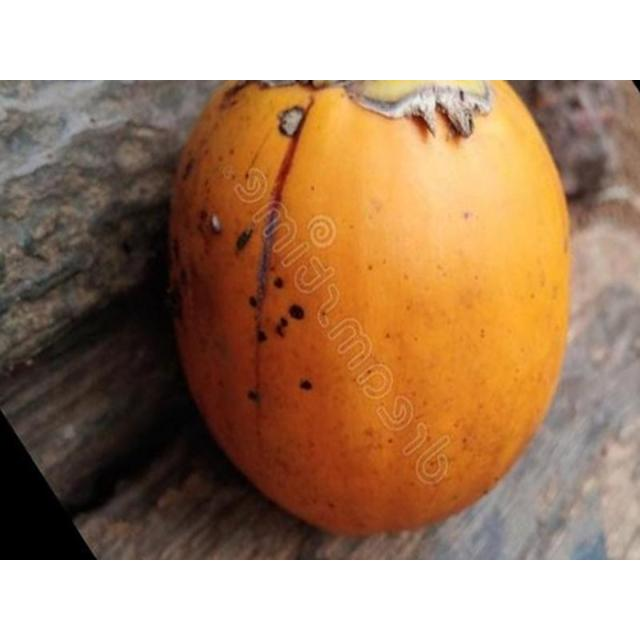good: (162, 80, 573, 540)
